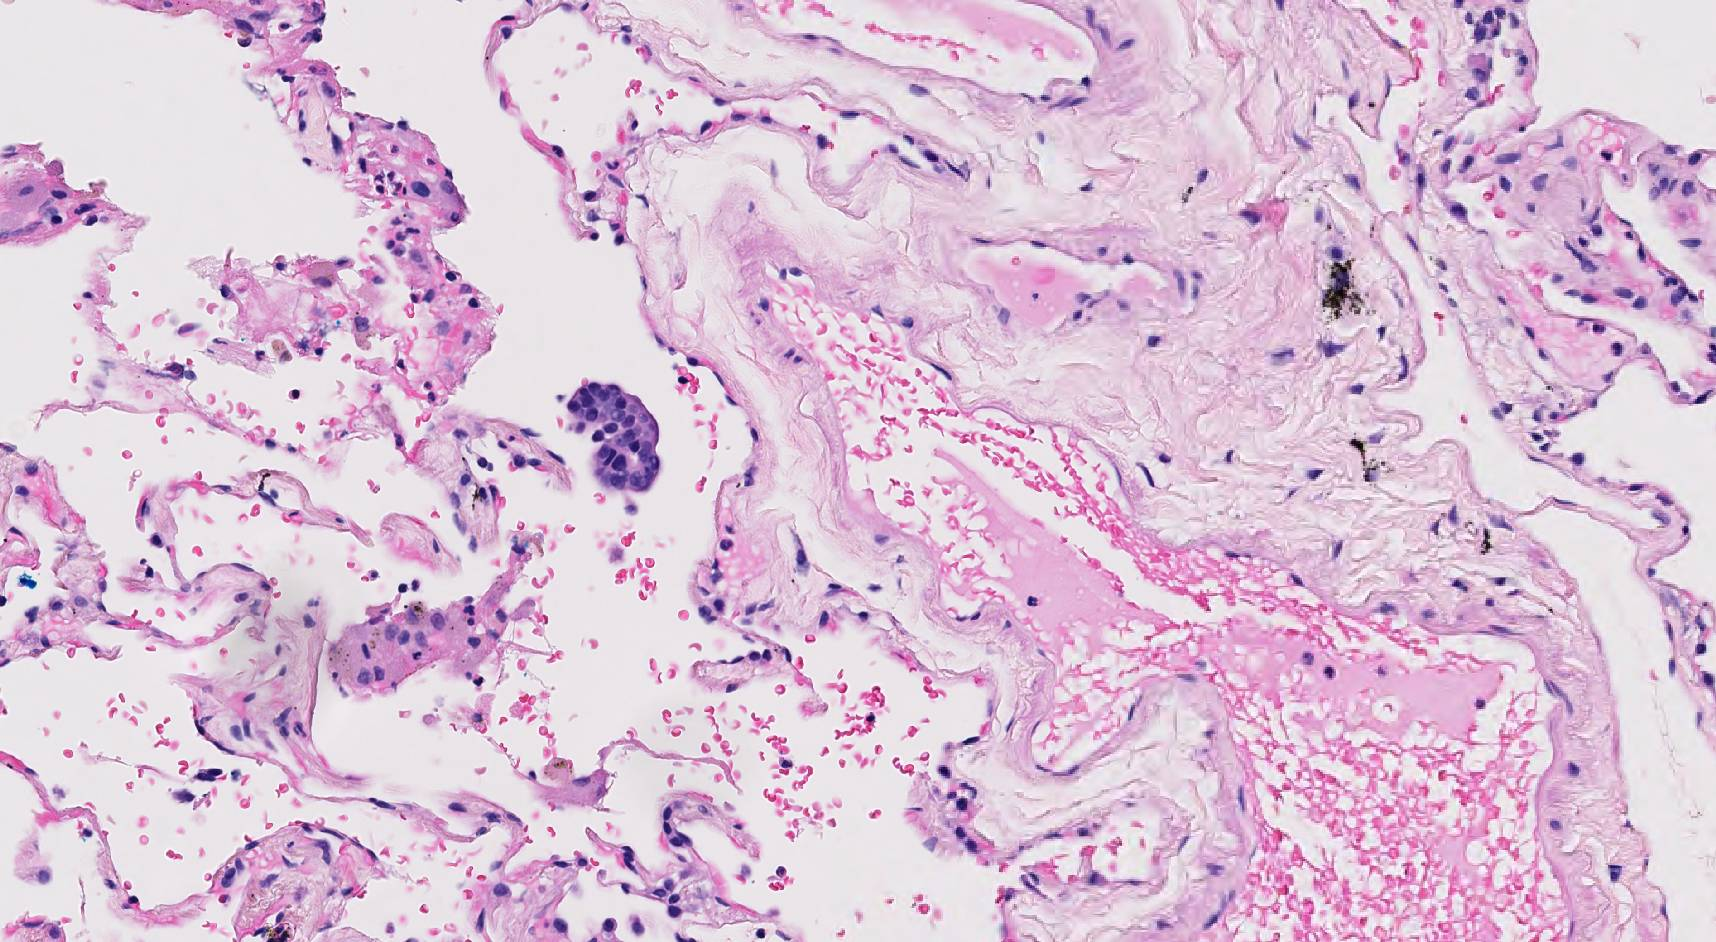stas: (564, 378, 673, 491)
